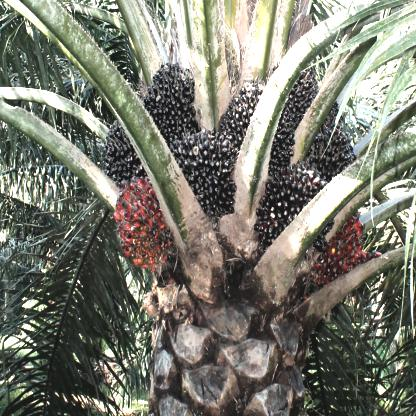1: (111, 176, 176, 270), (315, 213, 369, 290)
palm-oil: (165, 130, 238, 212), (251, 164, 318, 244), (146, 62, 200, 137), (304, 110, 351, 172), (102, 119, 146, 176), (278, 67, 315, 122), (220, 84, 255, 140), (268, 119, 297, 165)
